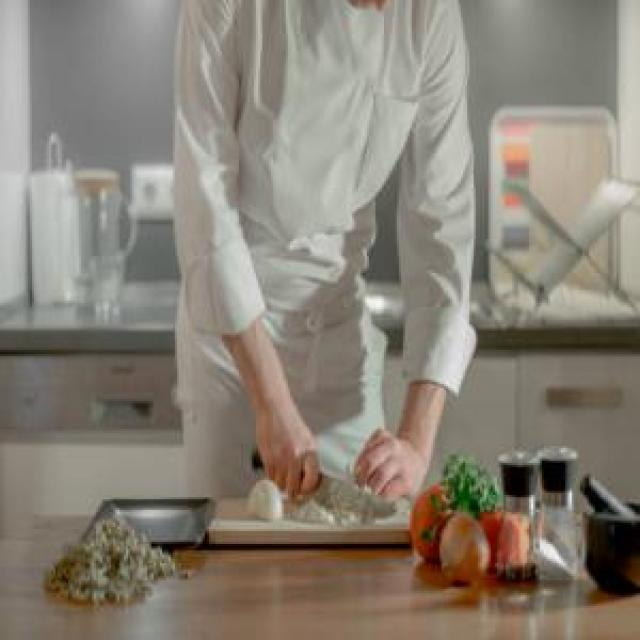knife: (243, 439, 399, 516)
